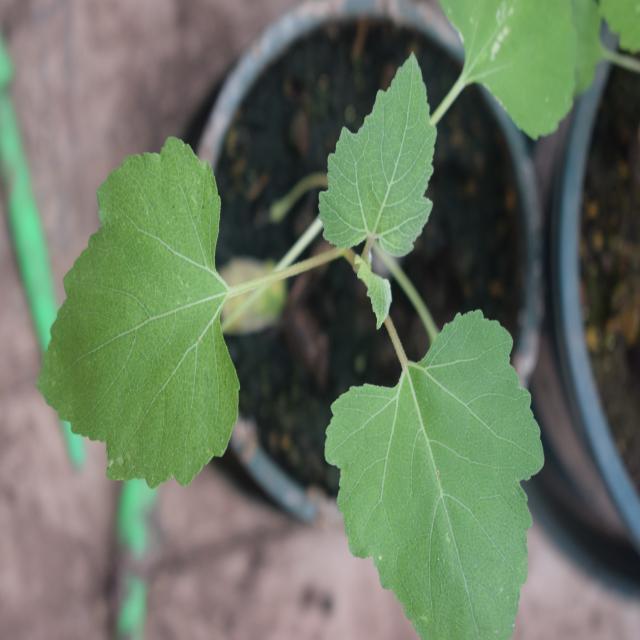cocklebur: (50, 66, 548, 628)
